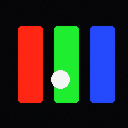2 circle: (51, 70, 69, 88)
